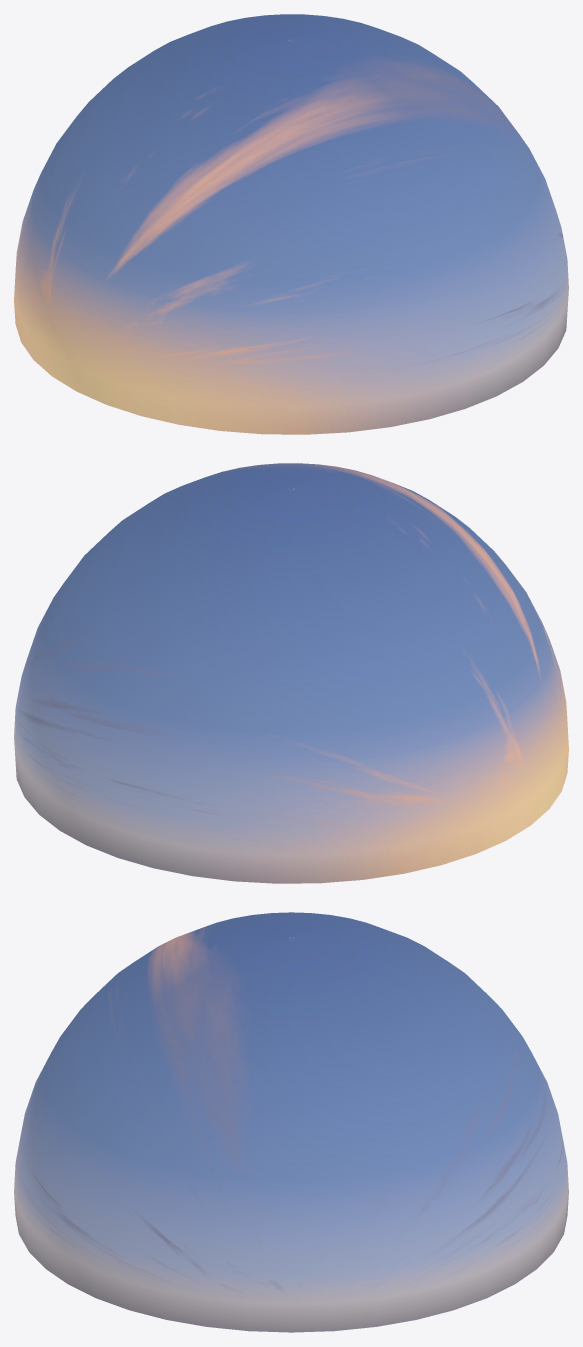
The model's file is pillaji_forest.gltf.
The picture shows the model from 3 angles, top to bottom: view 1: azimuth 30°, elevation 25°; view 2: azimuth 150°, elevation 25°; view 3: azimuth 270°, elevation 25°; orthographic projection.
Parts seen in each view (by area): view 1: SkyDome; view 2: SkyDome; view 3: SkyDome.
Boxes of the visible parts, left/top/right/bottom form: SkyDome: left=14, top=14, right=568, bottom=434; SkyDome: left=14, top=463, right=568, bottom=883; SkyDome: left=14, top=912, right=568, bottom=1332.
Size of the model in its own units: 300 by 166 by 300.
29 materials, 29 textured.
